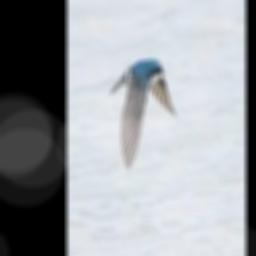Swallow: (110, 58, 179, 167)
